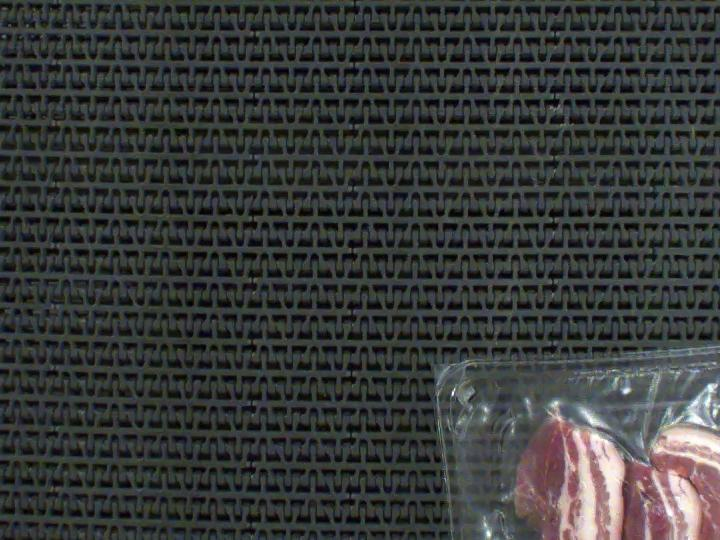unsealed: (498, 335, 720, 540)
